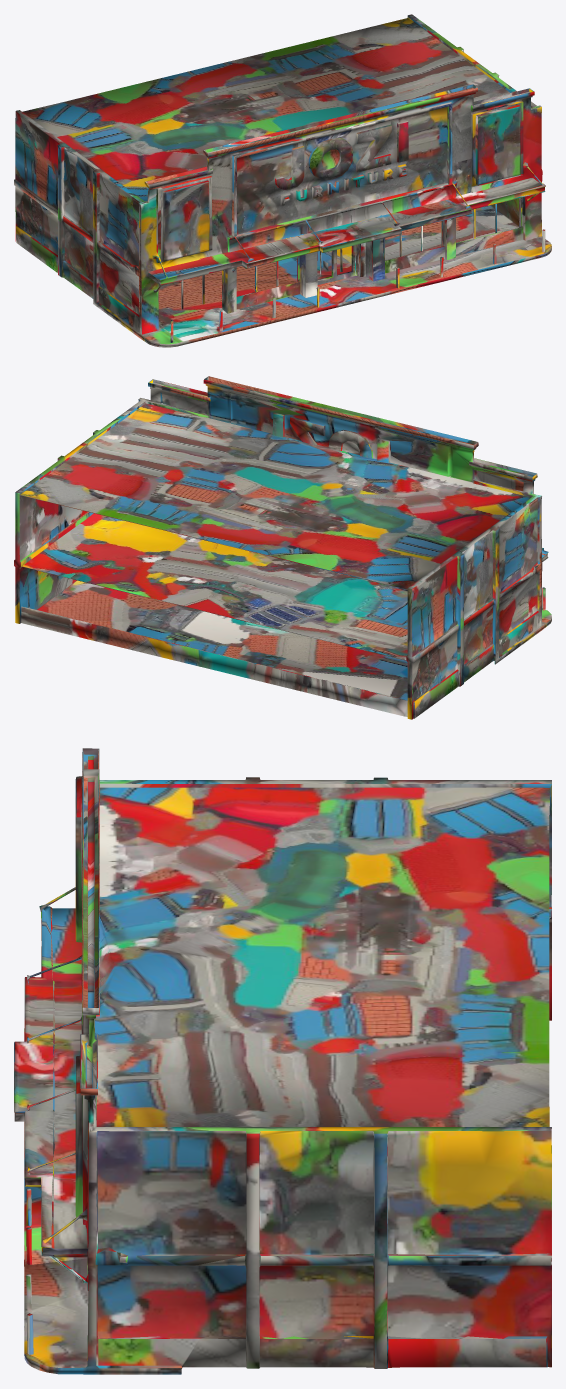
Rendered from JHB_JoziFurniture_LOD1.fbx.
3 views of the same model, one above another, from view 1: azimuth 30°, elevation 25°; view 2: azimuth 150°, elevation 25°; view 3: azimuth 270°, elevation 25° (orthographic). The views are drawn at different scales.
Visible parts, largest first — view 1: mesh_node.001; view 2: mesh_node.001; view 3: mesh_node.001.
Boxes of the visible parts, x1,y1,x2,y2 form: mesh_node.001: (14,14,551,347); mesh_node.001: (14,376,551,719); mesh_node.001: (14,748,551,1374).
Bounding box in the file's own units: 2107 × 850 × 1342.
